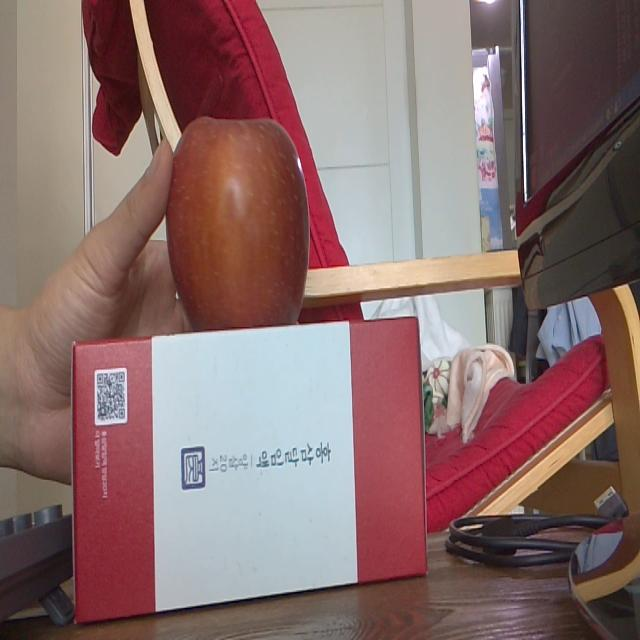apple: (167, 110, 312, 326)
